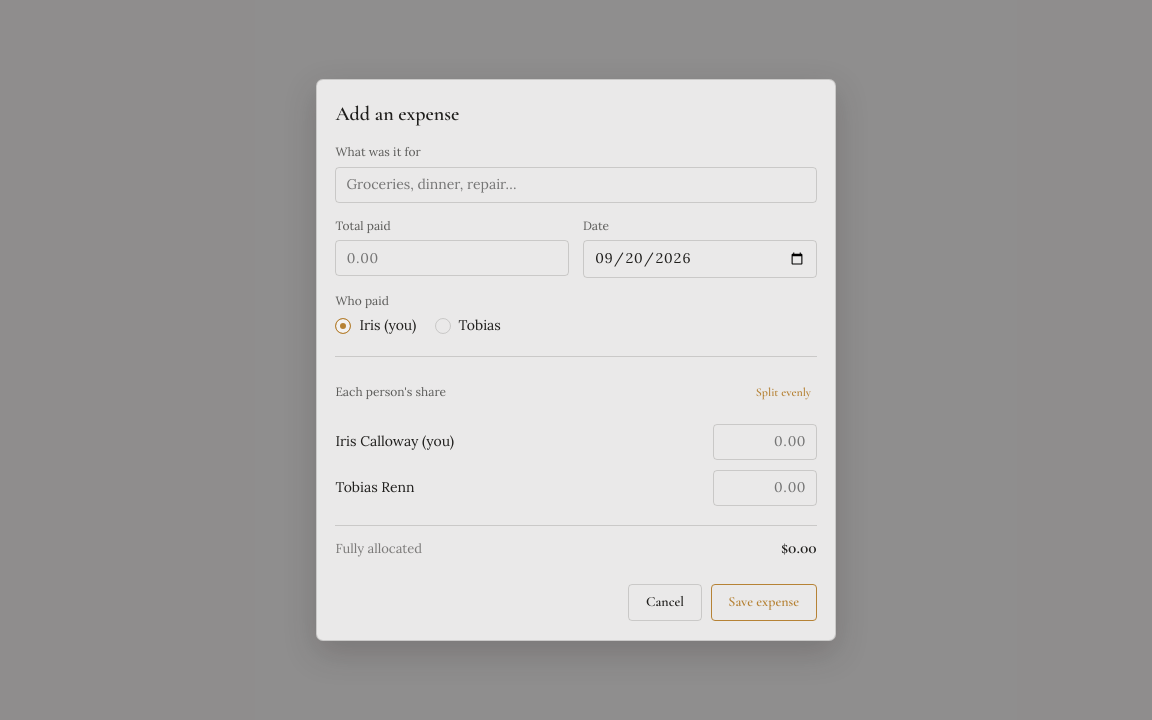
it: AddExpenseDialog › requires a description before saving
Type "20" into the field labelled "Total paid". click: (452, 258)
box: [335,240,569,276]
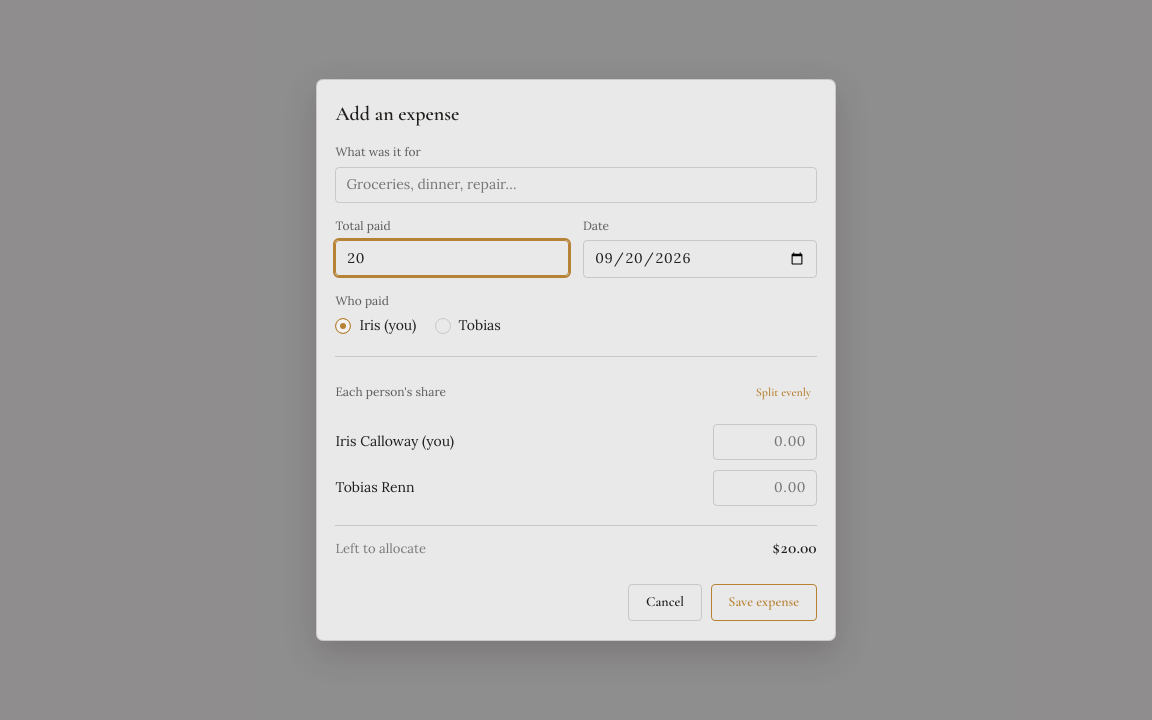
Click the button "Save expense". click: (764, 603)
box: [711,584,817,621]
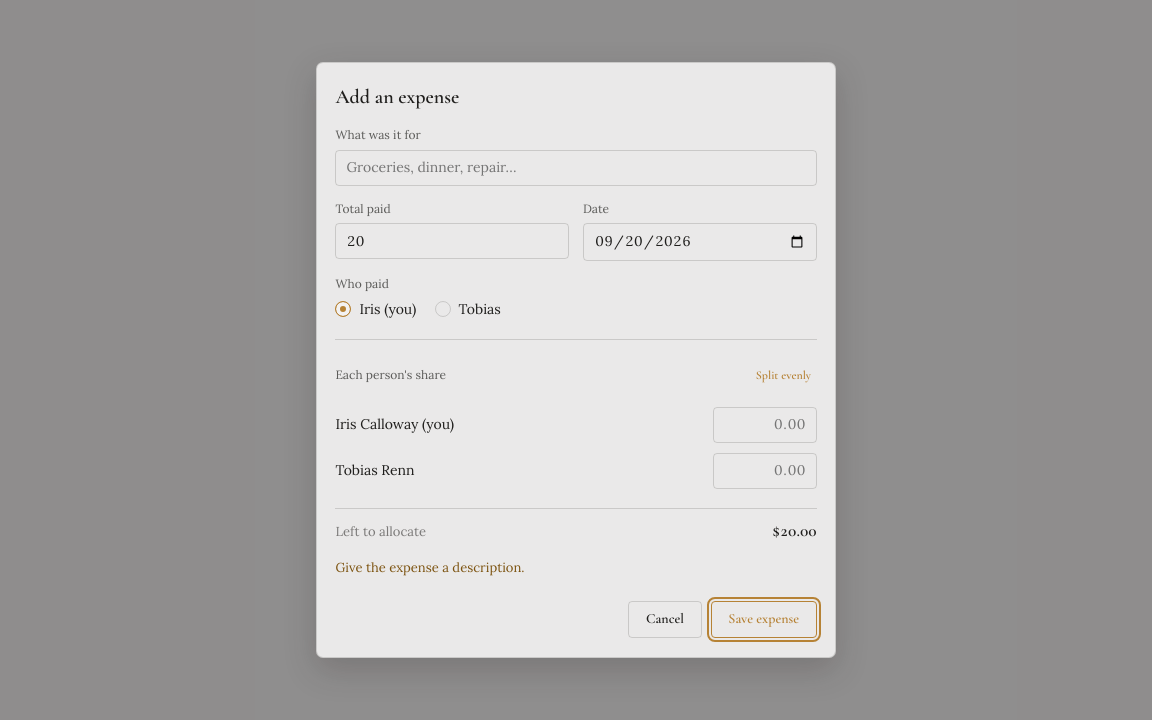
Now the text "Give the expense a description." is shown, box [335,559,525,576]
